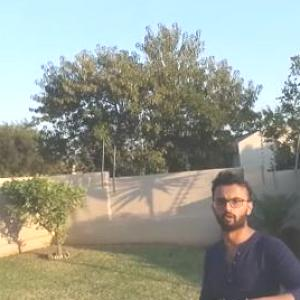follow: (190, 161, 300, 299)
